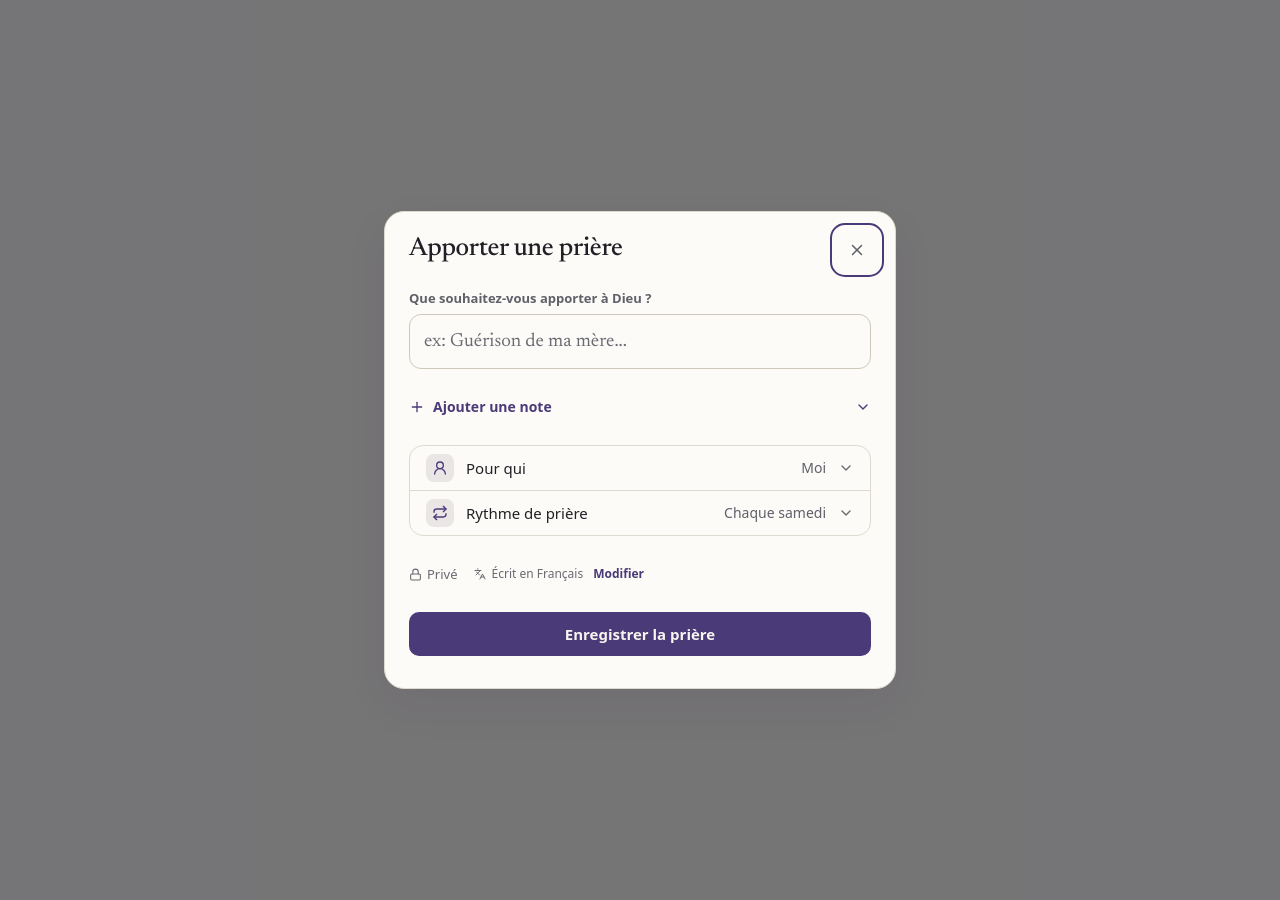
it: PrayerForm — accessibility › expanders expose aria-expanded/aria-controls and collapse without losing values
Click the button "Ajouter une note" at (492, 407), box [409, 385, 871, 429]
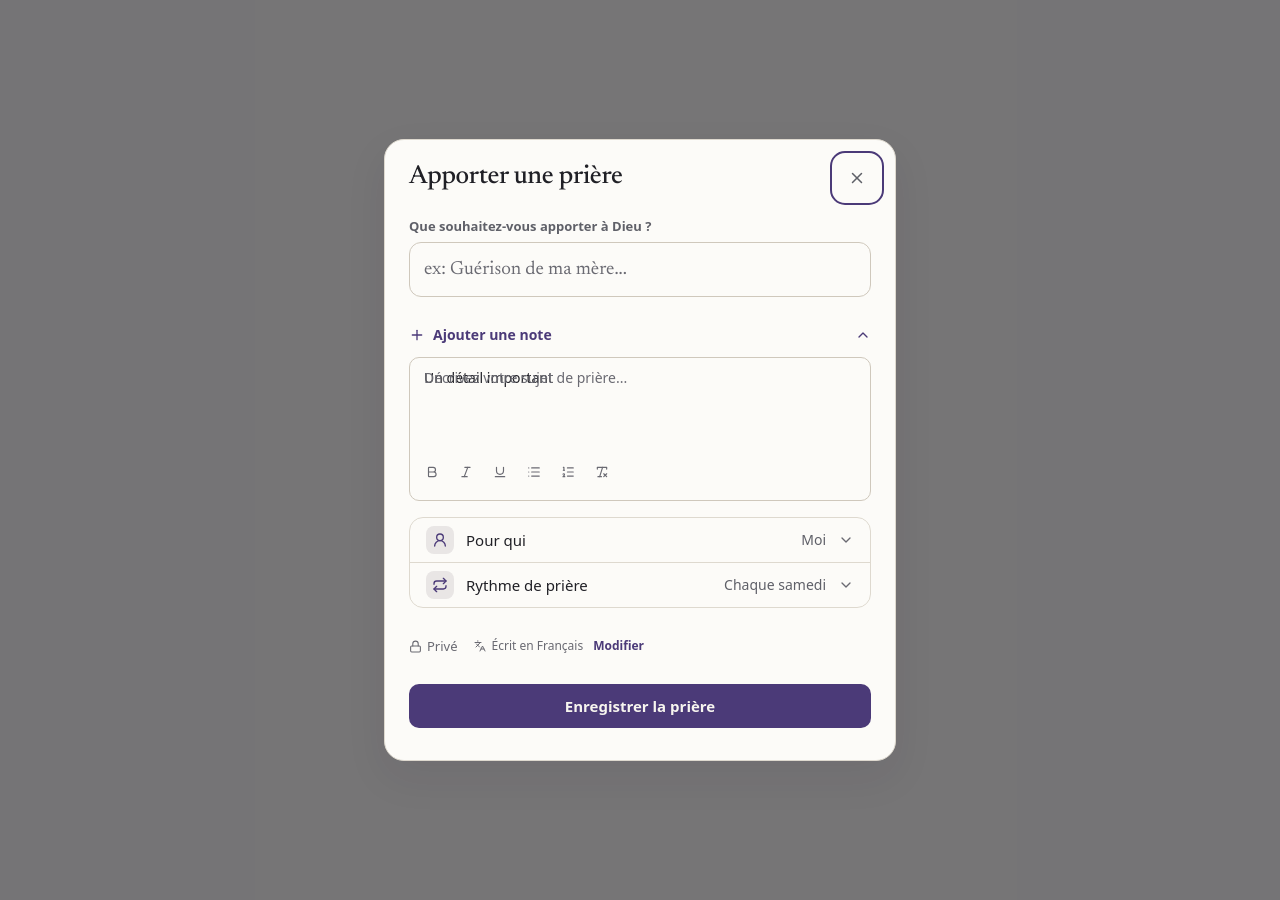
expect the button "Ajouter une note" is expanded: met, box [409, 313, 871, 357]
Clear the field named "Détails (facultatif)" at (488, 378), box [424, 368, 553, 387]
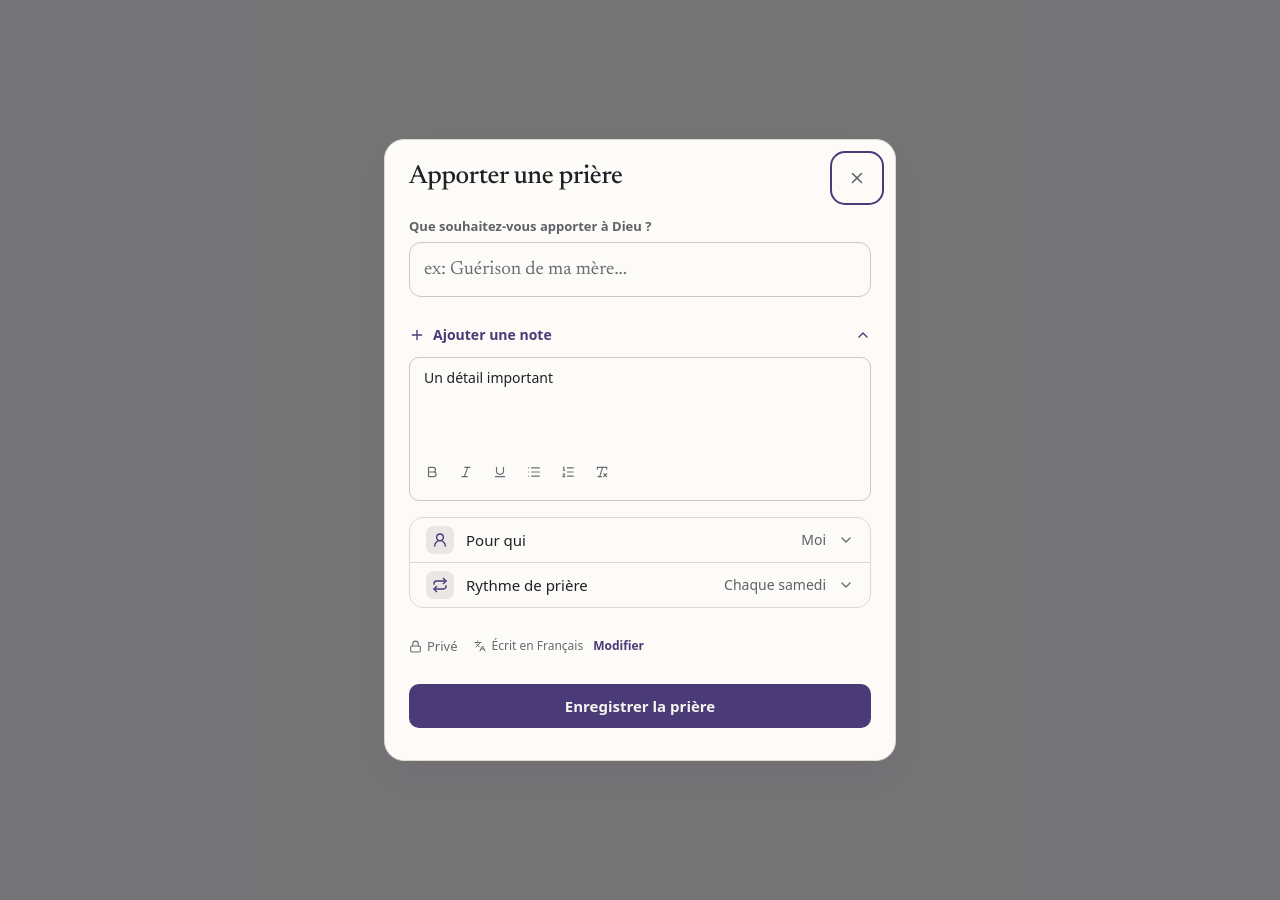
Collapse, then reopen: the entered note is still there.
Click the button "Ajouter une note" at (492, 335), box [409, 313, 871, 357]
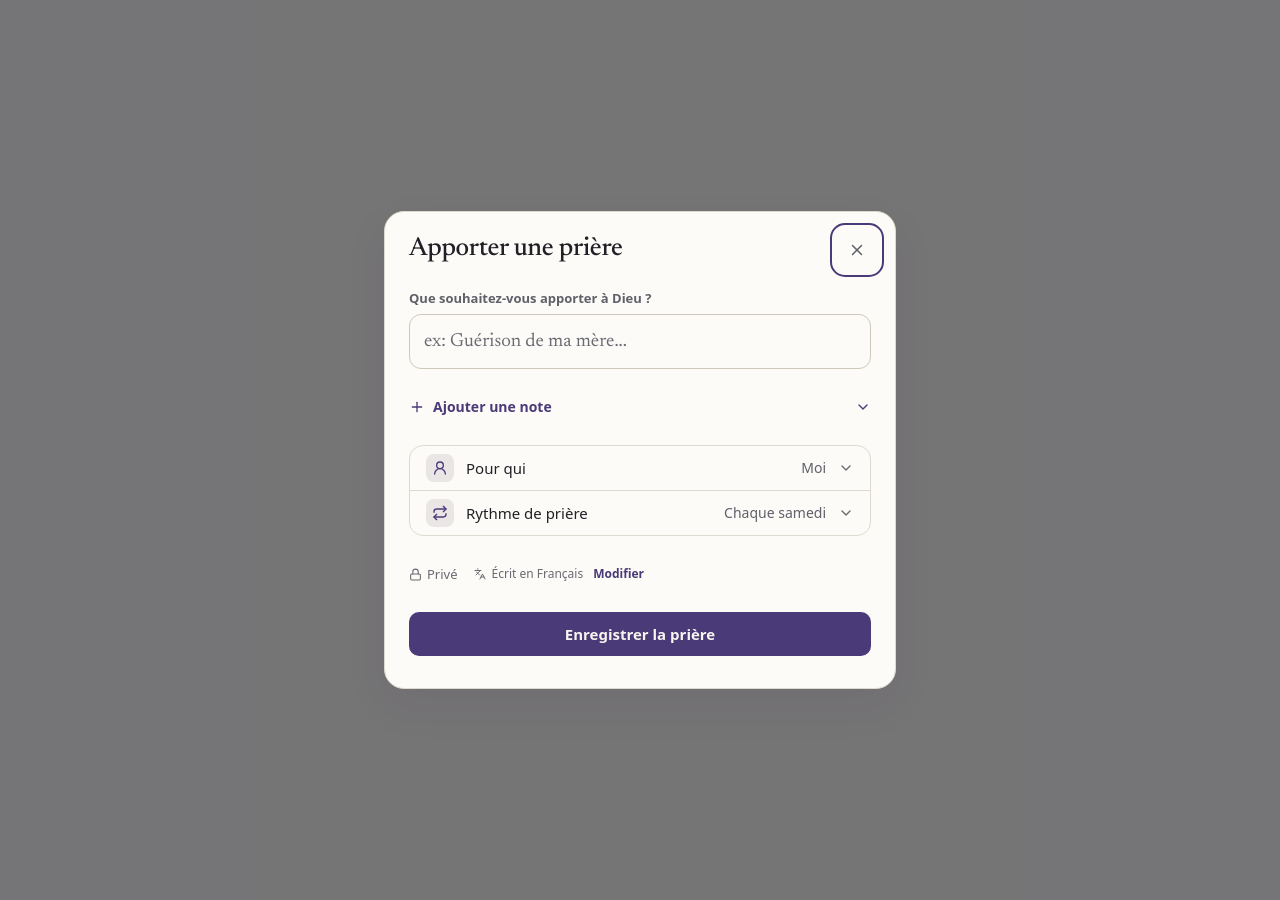
expect the field labelled "Détails (facultatif)" is not shown: met
Click the button "Ajouter une note" at (492, 407), box [409, 385, 871, 429]
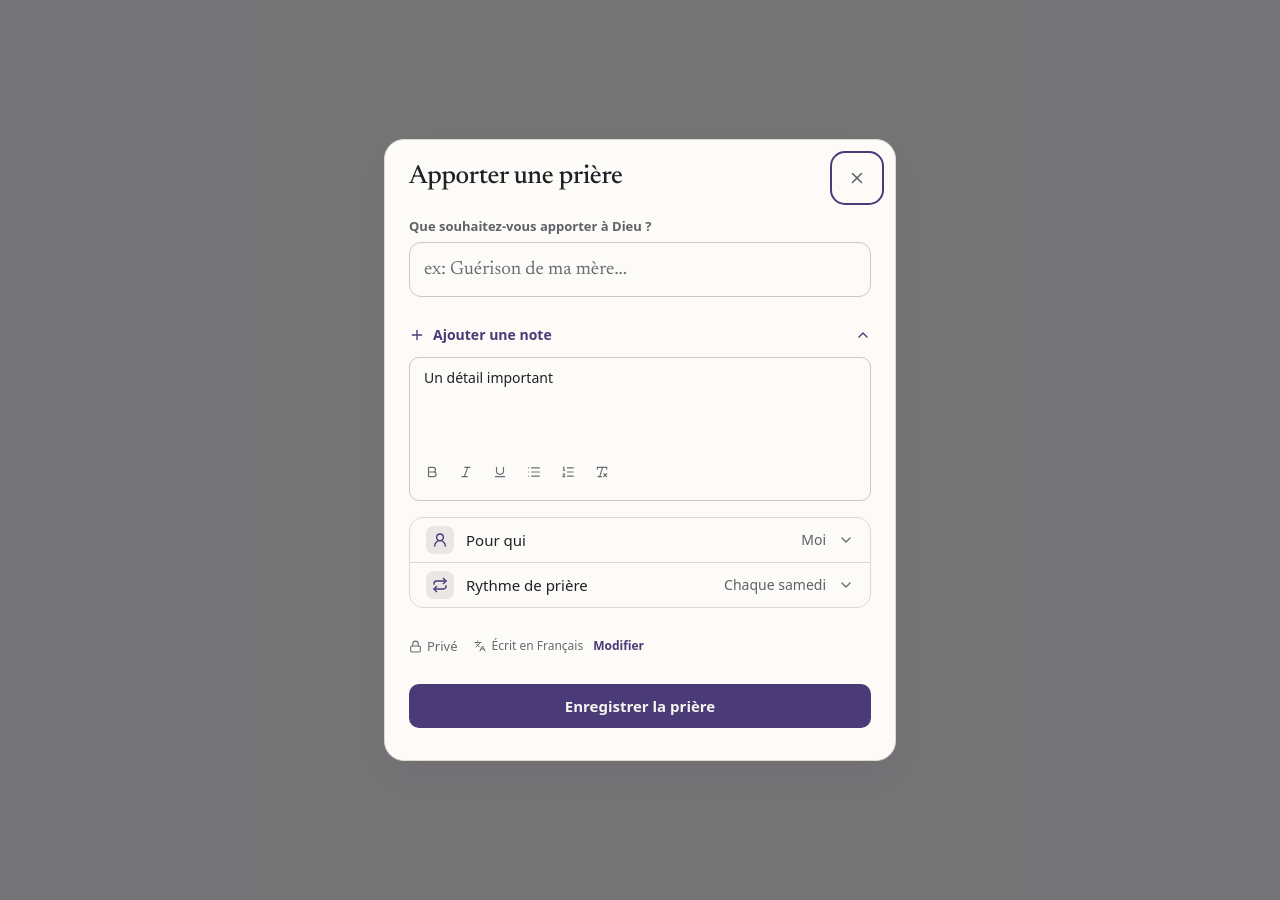
expect the field named "Détails (facultatif)" reads "Un détail important": met, box [424, 368, 553, 387]
